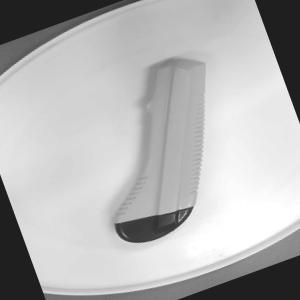estilete: (65, 50, 256, 253)
